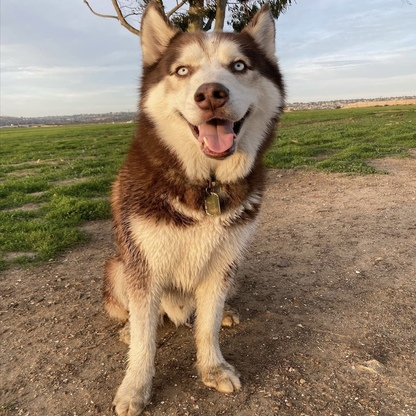husky: (93, 4, 293, 411)
